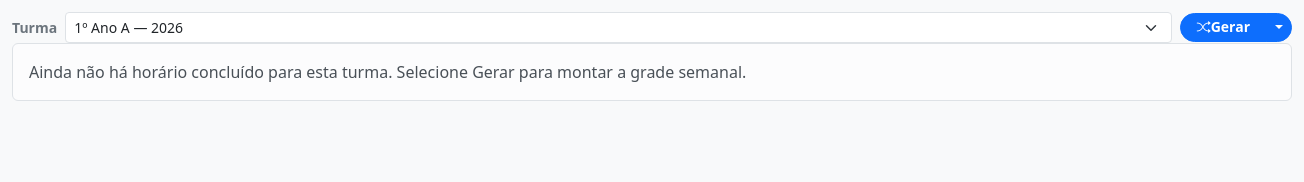
Test: HorariosEscolares › permite ao Especialista acionar gerarHorario e exibe erro amigável caso falhe
The width and height of the screenshot is (1304, 182).
Step 1. Click the button "Gerar" → [1223, 27], box 1180,13 -> 1267,42
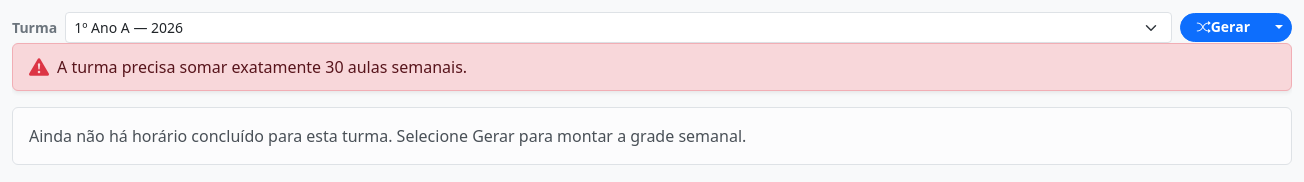
Expected: the text "A turma precisa somar exatamente 30 aulas semanais." is shown, 57,55 -> 467,79
